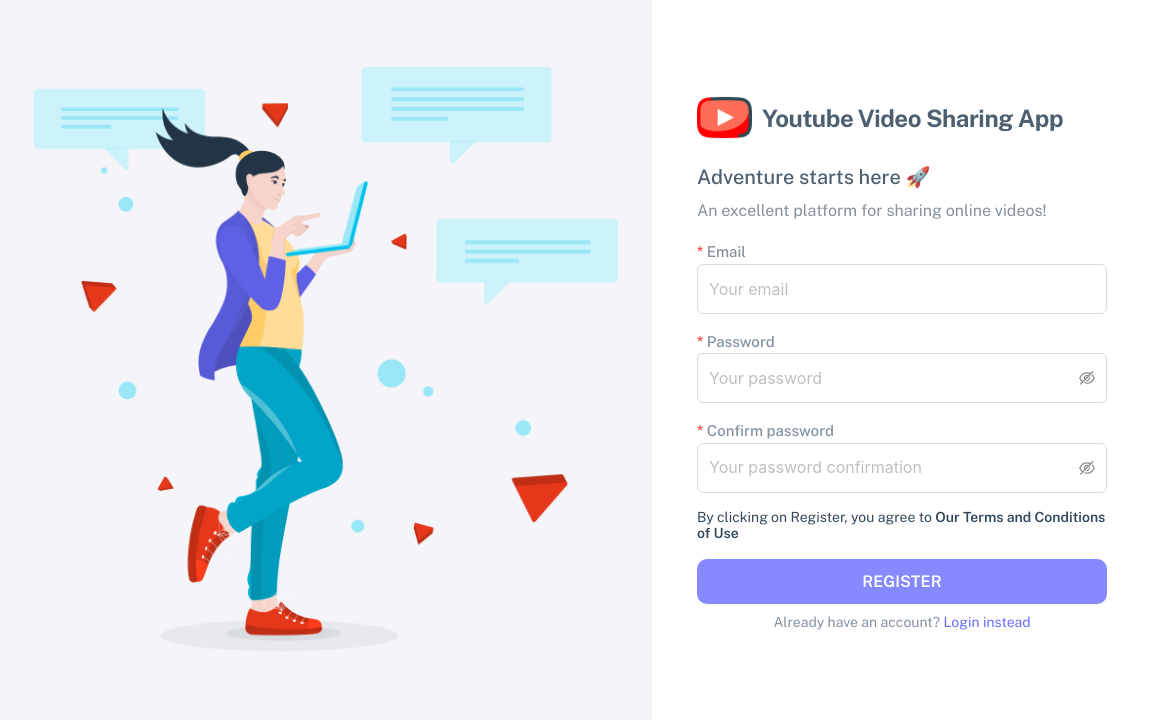
Test case: Register Page › submits the register form in case empty email, not empty password, not empty password confirm
Type "123456" into the password field with placeholder "Your password" at x=892, y=378, box [709,358,1075,398]
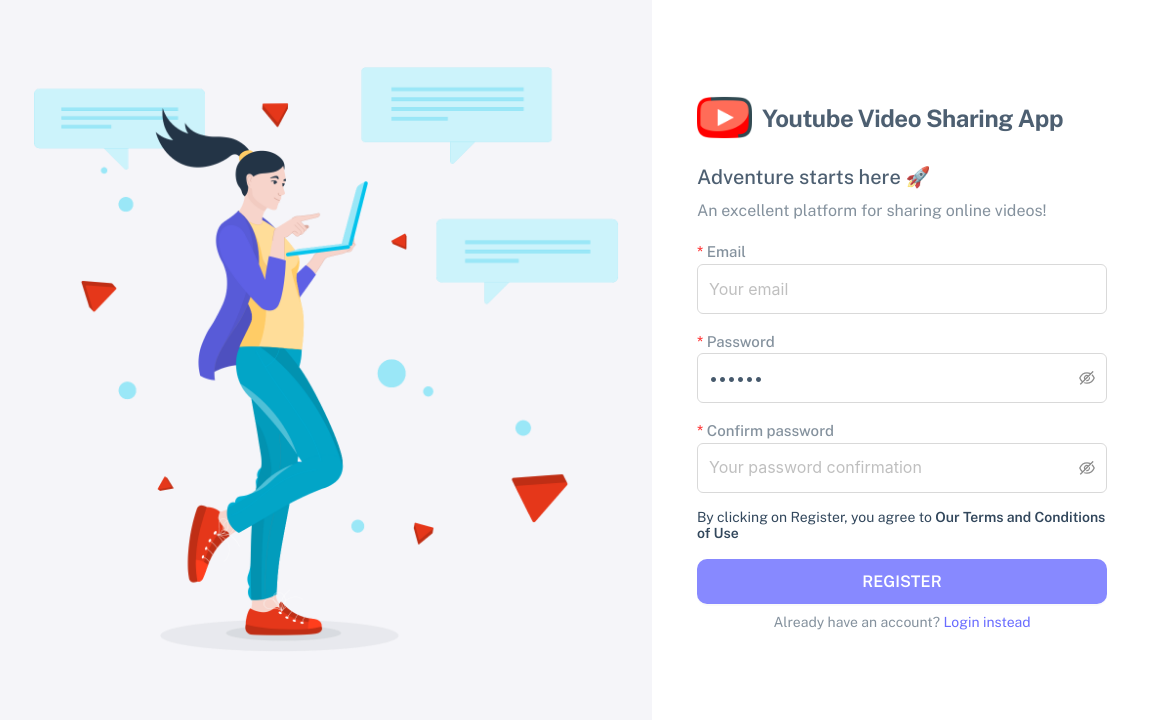
Type "123456" into the password field with placeholder "Your password confirmation" at x=892, y=468, box [709,448,1075,488]
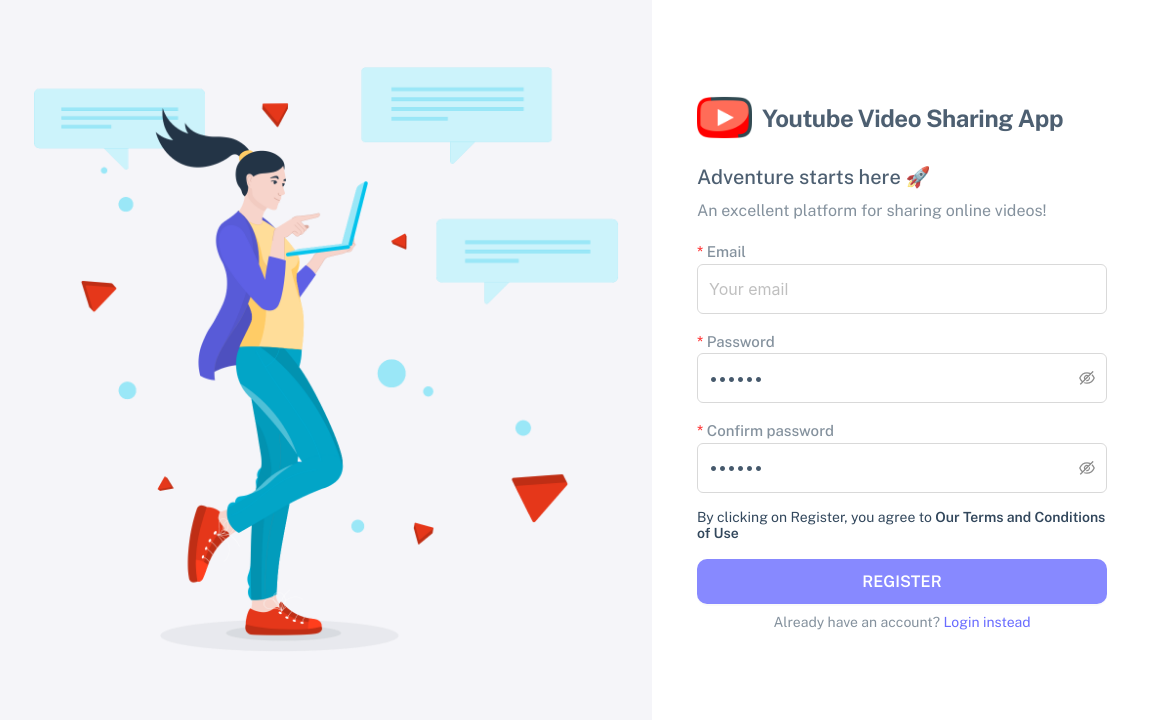
Click the button "REGISTER" at x=902, y=581, box [697,559,1107,604]
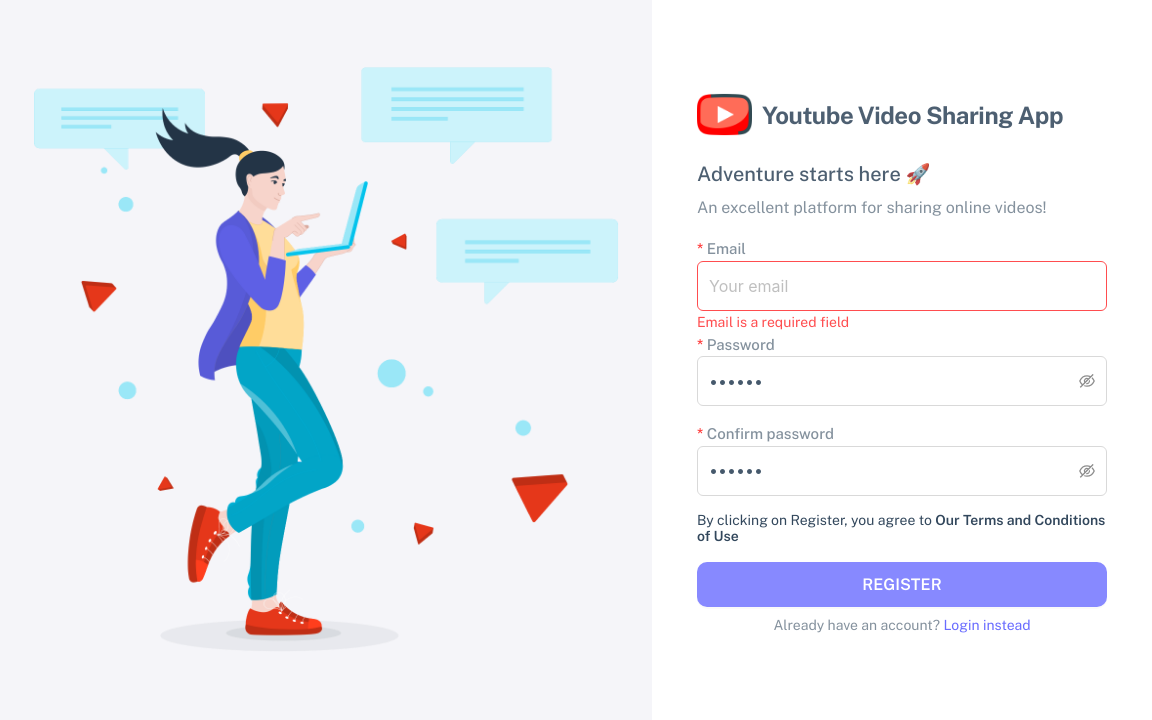
Expected: the text "Email is a required field" is shown, [697,314,849,330]
